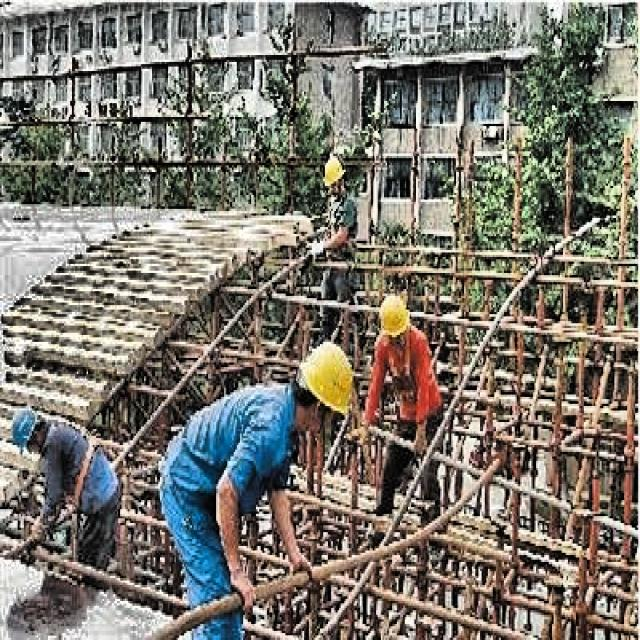helmet: (293, 333, 355, 445), (8, 406, 53, 459), (374, 289, 412, 351), (320, 149, 350, 200)
